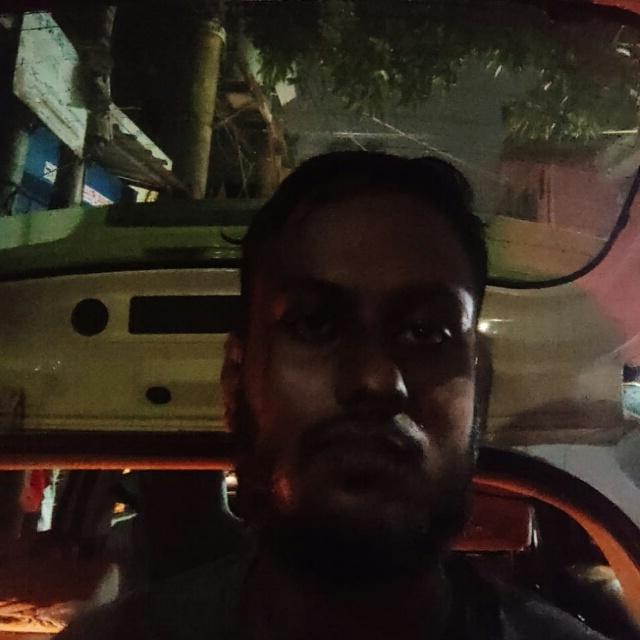Disgust: (197, 127, 544, 598)
